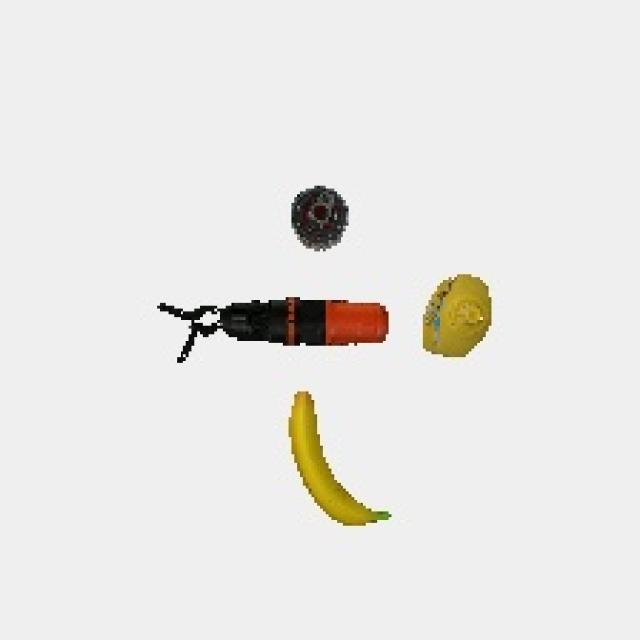Banana: (274, 382, 396, 542)
MustardBottle: (410, 263, 517, 370)
TomatoSoupCan: (280, 181, 357, 256)
